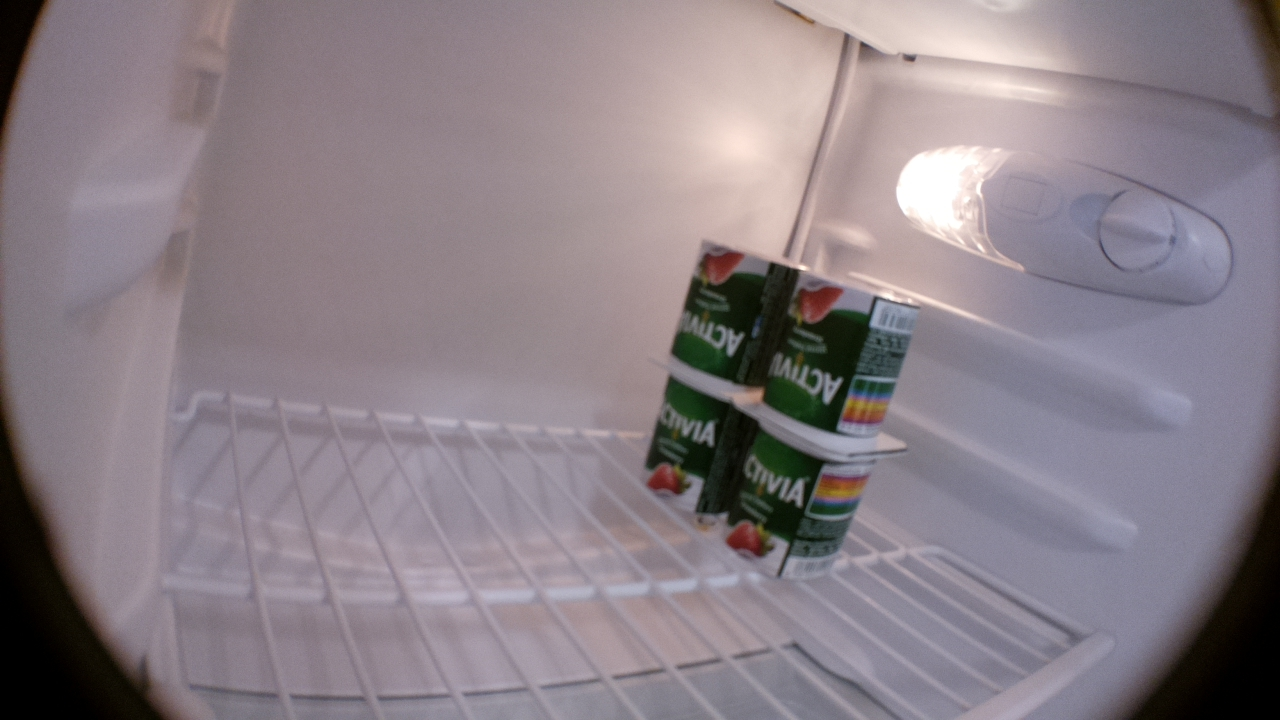yoghurt: (738, 270, 918, 454), (724, 400, 904, 584), (641, 233, 809, 390), (636, 356, 757, 524)
